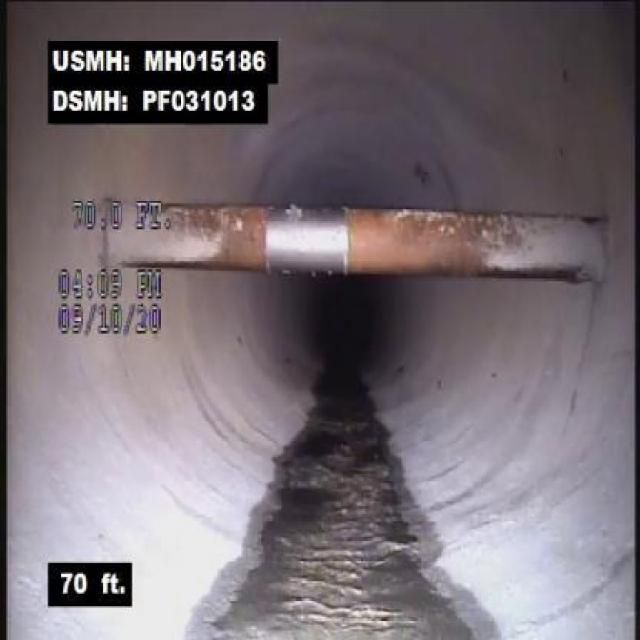Crack: (558, 291, 600, 440)
Utility intrusion: (108, 192, 614, 290)
